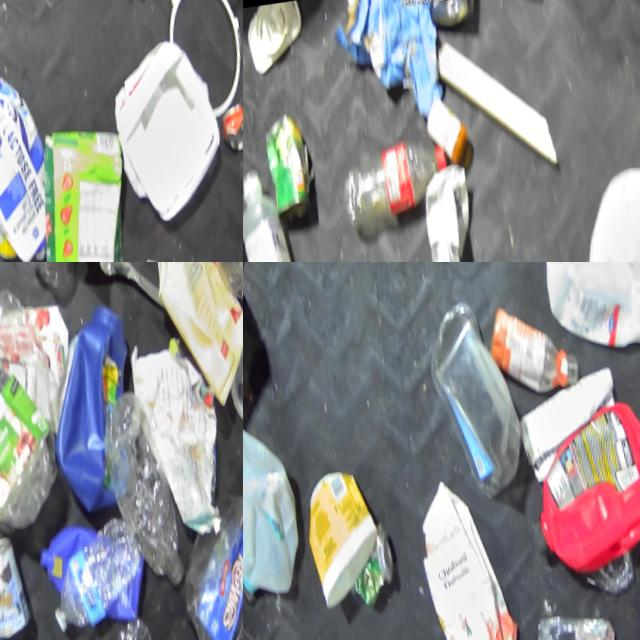can: (0, 526, 46, 640), (349, 525, 407, 606), (224, 94, 243, 144)
milk_jug: (243, 407, 323, 603), (536, 262, 640, 357), (570, 156, 640, 262)
non_white_jug: (31, 295, 162, 517), (525, 388, 640, 576)
plastic_bottle: (90, 379, 205, 595), (0, 318, 78, 539), (42, 505, 161, 636), (484, 284, 590, 391), (339, 133, 458, 222)
